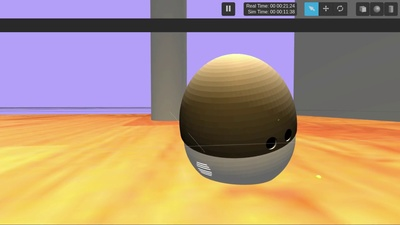mira_robot: (180, 53, 298, 185)
